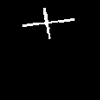single_crochet: (23, 8, 73, 38)
